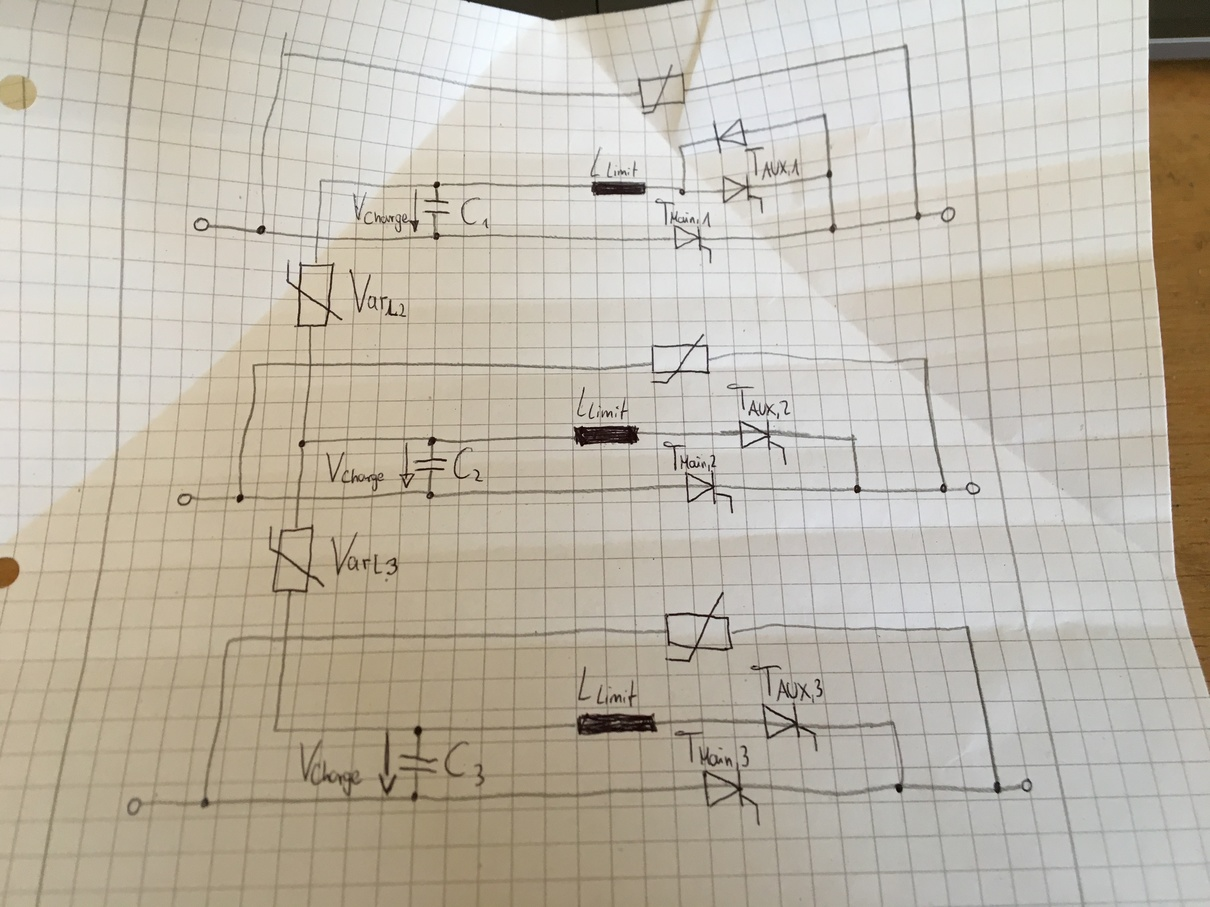capacitor.unpolarized: (397, 752, 439, 775), (413, 456, 448, 473), (422, 197, 451, 217)
crossover: (280, 631, 291, 644), (312, 231, 323, 243), (305, 359, 317, 370), (293, 492, 303, 503)
diode: (711, 118, 749, 155)
inductor: (574, 710, 661, 738), (571, 423, 642, 447), (590, 179, 648, 197)
junction: (892, 780, 907, 796), (411, 722, 425, 737), (255, 222, 269, 237), (991, 780, 1004, 796), (408, 789, 421, 804), (233, 491, 247, 504), (199, 796, 212, 810), (425, 434, 438, 448), (277, 49, 291, 61), (429, 230, 444, 241), (223, 635, 236, 647), (887, 717, 900, 729), (431, 178, 444, 190), (938, 482, 950, 495), (852, 483, 864, 496), (677, 185, 689, 198), (424, 488, 436, 501), (960, 621, 973, 632), (828, 222, 839, 235), (899, 41, 913, 51), (824, 168, 835, 180), (912, 210, 923, 222), (848, 432, 859, 444), (297, 438, 308, 449), (270, 724, 281, 735), (819, 110, 830, 121), (920, 354, 932, 364), (250, 361, 260, 370), (676, 142, 686, 151), (317, 177, 326, 186)
terminal: (125, 795, 144, 818), (939, 205, 957, 224), (176, 491, 195, 508), (192, 216, 211, 233), (964, 480, 983, 496), (1020, 777, 1034, 794)
text: (297, 737, 363, 796), (329, 529, 400, 578), (671, 728, 751, 770), (346, 266, 408, 320), (749, 662, 827, 704), (574, 664, 639, 709), (350, 190, 410, 234), (725, 381, 792, 420), (324, 450, 386, 492), (441, 738, 487, 788), (575, 384, 630, 421), (743, 146, 801, 181), (653, 196, 713, 229), (662, 439, 719, 472), (588, 145, 640, 179), (451, 445, 486, 484), (458, 195, 490, 230)
thyristor: (701, 769, 762, 820), (760, 701, 820, 746), (736, 418, 788, 461), (684, 470, 737, 511), (721, 173, 765, 212), (672, 224, 714, 259)
varistor: (663, 590, 736, 664), (267, 523, 326, 595), (285, 257, 344, 329), (649, 332, 712, 386), (636, 63, 689, 116)
